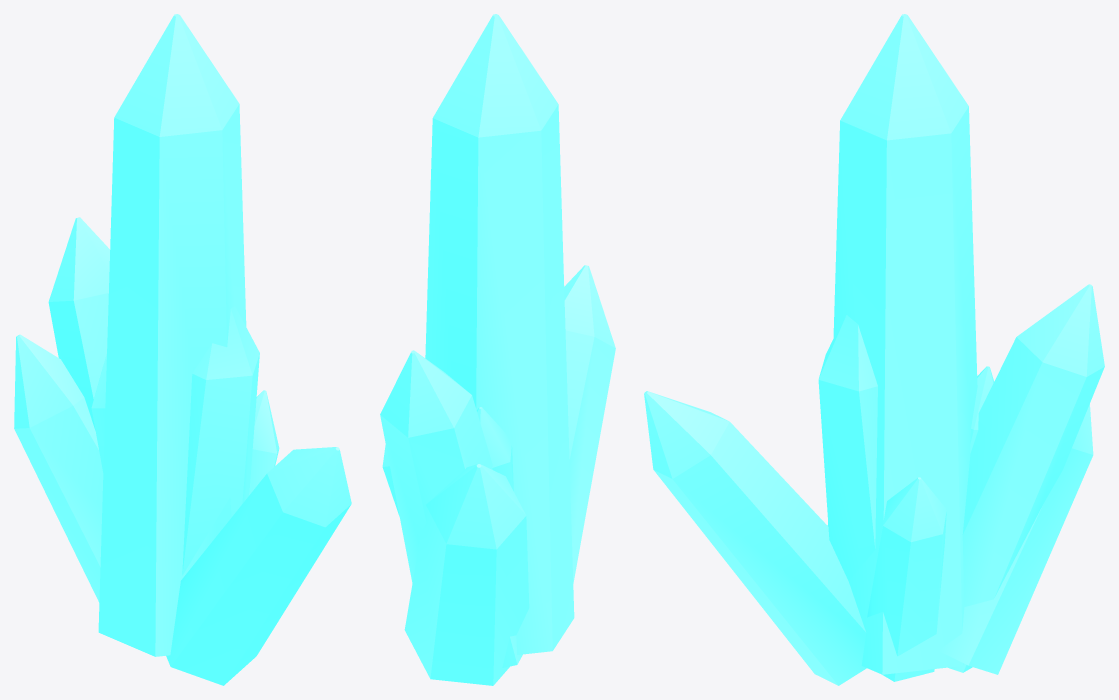
File: crystal.glb
3 views of the same model, side by side, from view 1: azimuth 30°, elevation 25°; view 2: azimuth 150°, elevation 25°; view 3: azimuth 270°, elevation 25° (orthographic). The views are drawn at different scales.
Parts seen in each view (by area): view 1: Crystal; view 2: Crystal; view 3: Crystal.
Boxes of the visible parts, x1,y1,x2,y2 form: Crystal: (14, 14, 351, 685); Crystal: (380, 14, 615, 685); Crystal: (644, 14, 1104, 685).
Bounding box in the file's own units: 1.74 × 5.47 × 3.47.
